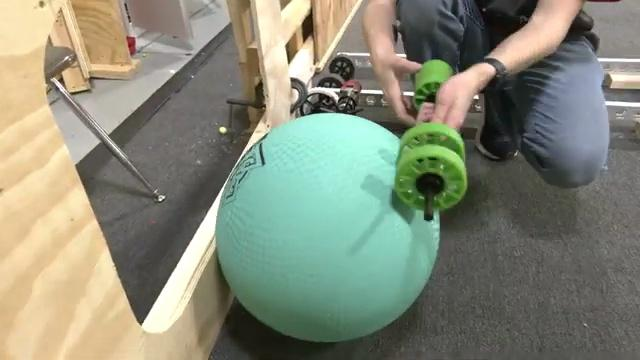ALGAE: (214, 111, 441, 343)
